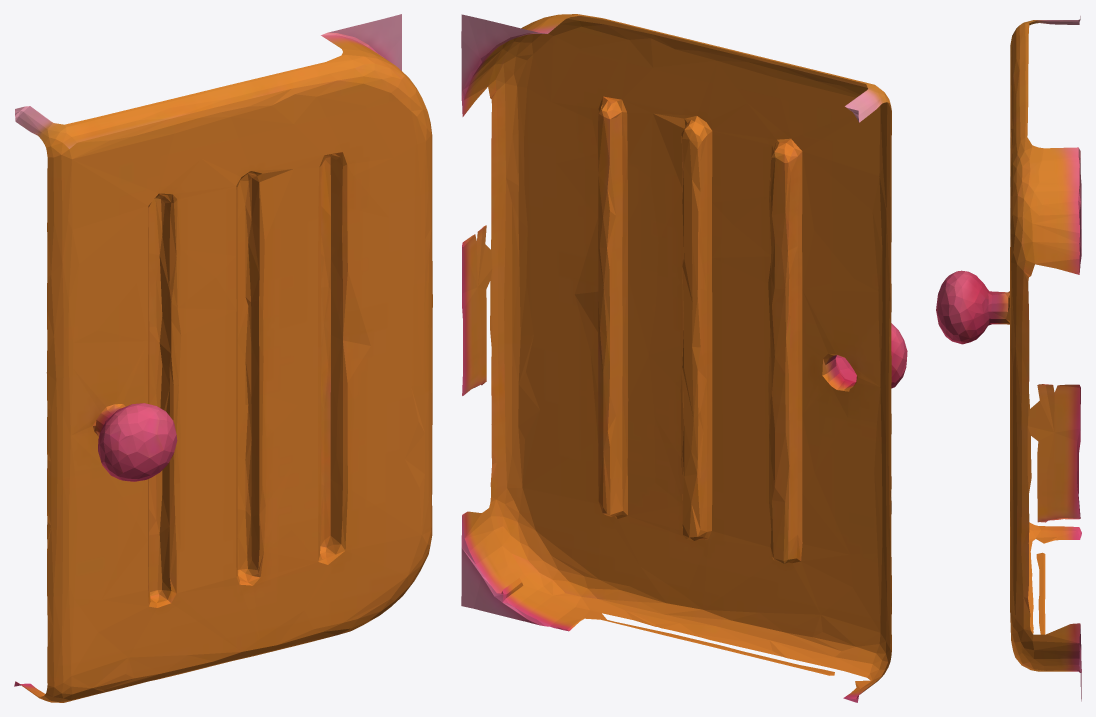
File: door_right.glb
3 renders of one model, left to right at view 1: azimuth 30°, elevation 25°; view 2: azimuth 150°, elevation 25°; view 3: azimuth 270°, elevation 25°, orthographic. The views are drawn at different scales.
Parts seen in each view (by area): view 1: source_surface_0; view 2: source_surface_0; view 3: source_surface_0.
Part boxes in pixels (x1,y1,x2,y2): source_surface_0: [14, 14, 432, 702]; source_surface_0: [461, 14, 907, 702]; source_surface_0: [936, 16, 1081, 701].
Size of the model in its own units: 0.0603 by 0.0859 by 0.0219.
Materials: 1 (1 with a texture image).
